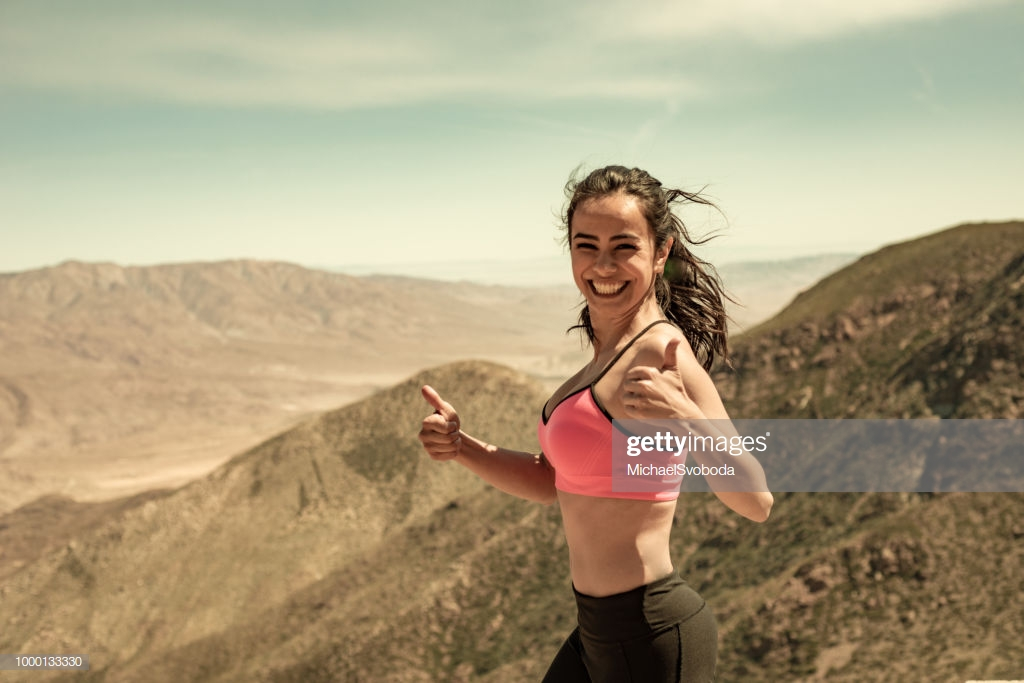thumbsup: (620, 336, 682, 419), (418, 384, 461, 463)
